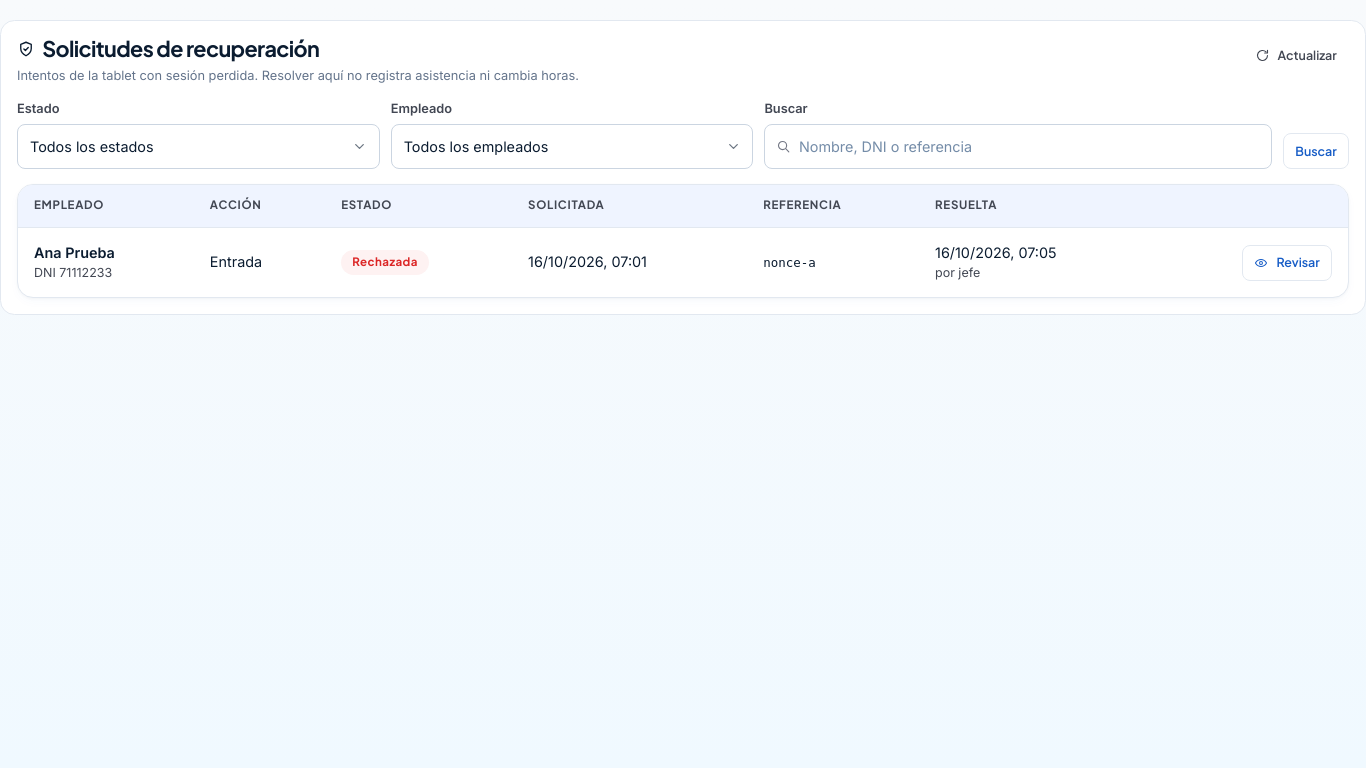
Test: panel de solicitudes de recuperación › una solicitud ya resuelta se muestra sin formulario de decisión
The width and height of the screenshot is (1366, 768).
Expected: the row with test id "recovery-row" is shown, [18,228,1348,297]
Click the button with test id "recovery-open" at [1287, 263], box [1242,245,1332,281]
(page scrolled)
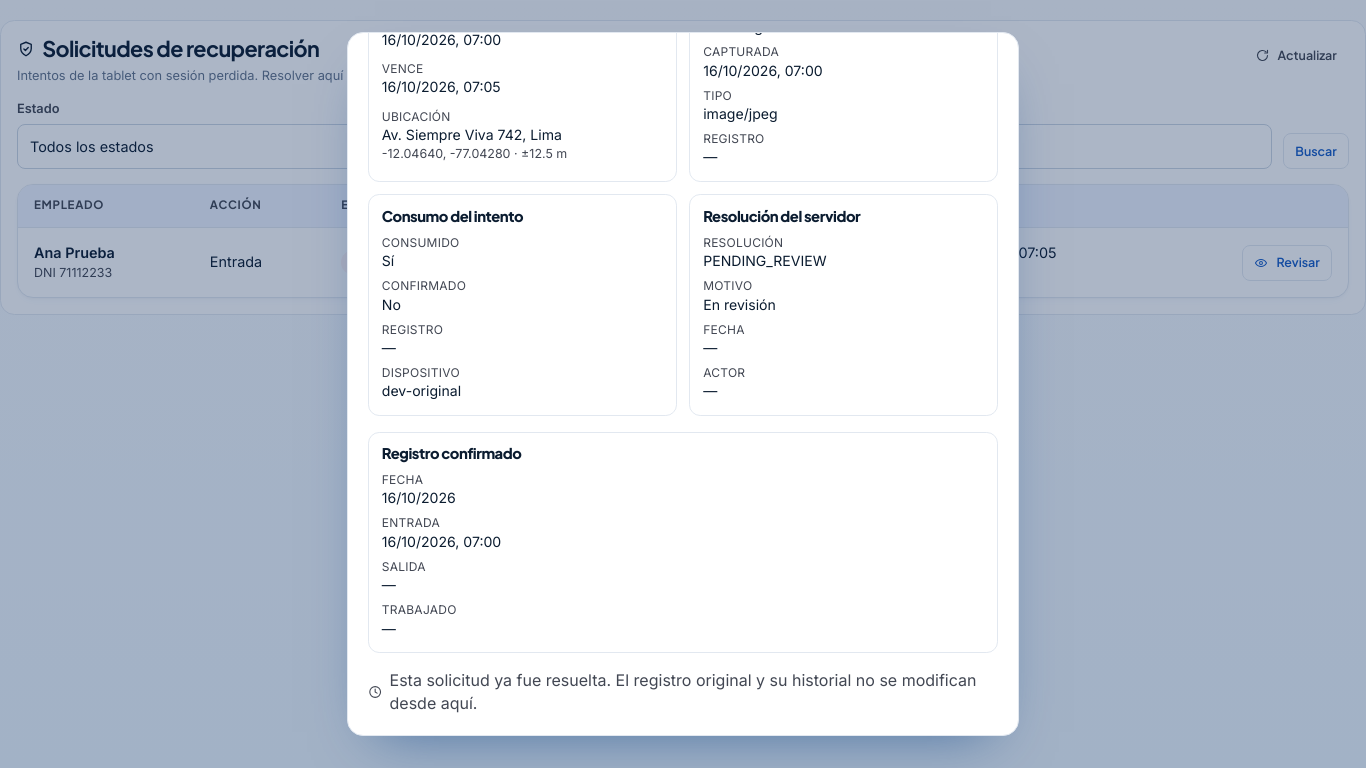
Now the element with test id "recovery-closed" is shown, box [368,669,998,715]
